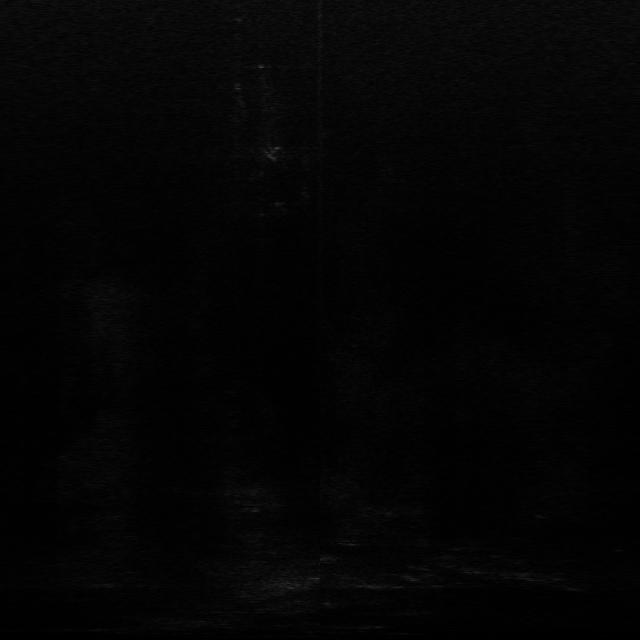rov: (259, 145, 287, 163)
